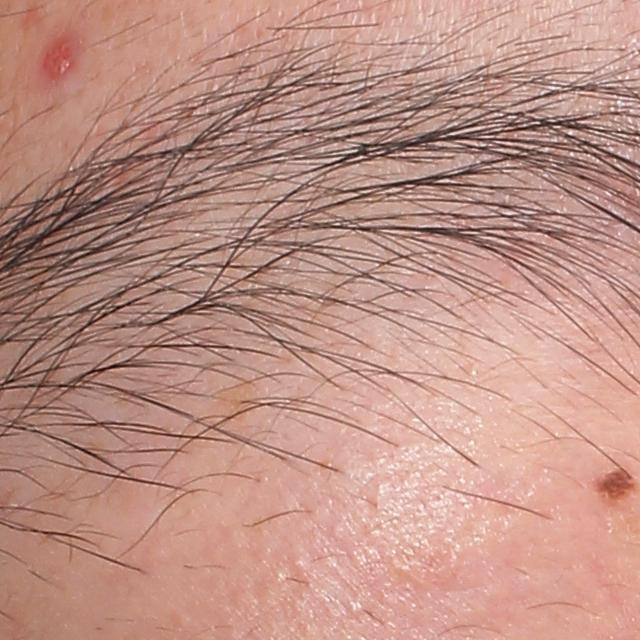papule: (38, 33, 83, 88)
